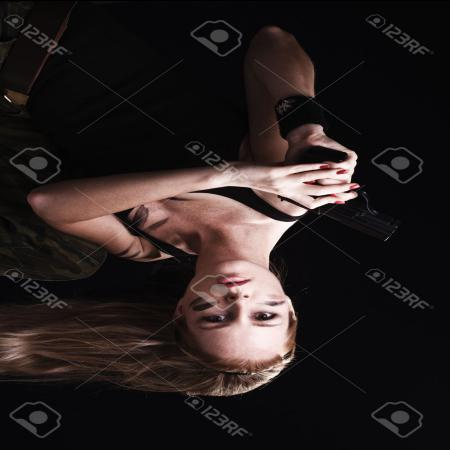Pistol: (278, 141, 404, 241)
